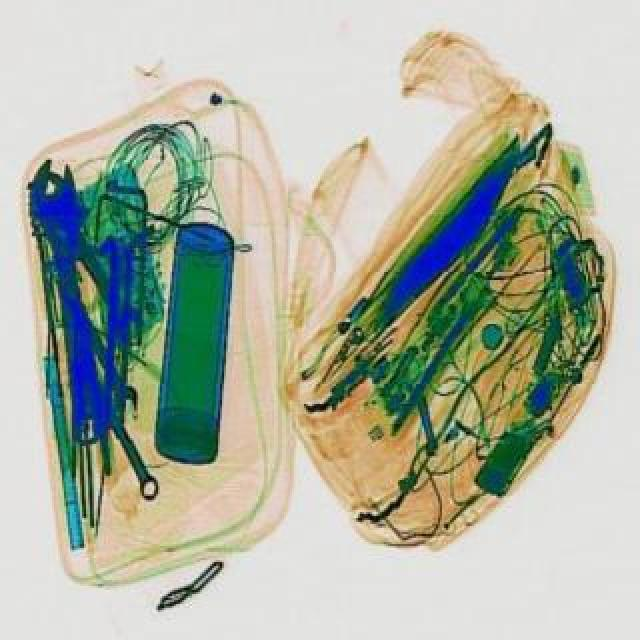scissors: (22, 154, 110, 444), (24, 166, 152, 348), (62, 290, 142, 416), (88, 386, 162, 504)
